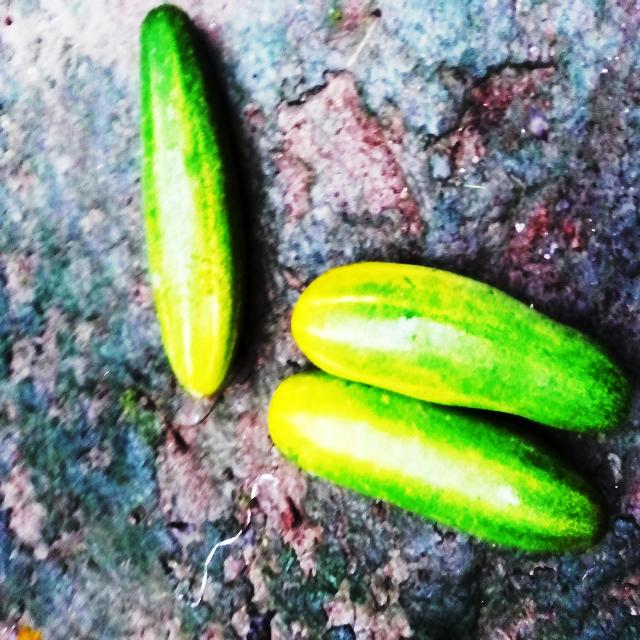Fresh-Cucumber: (265, 365, 615, 559), (289, 255, 635, 443), (134, 4, 247, 405)
